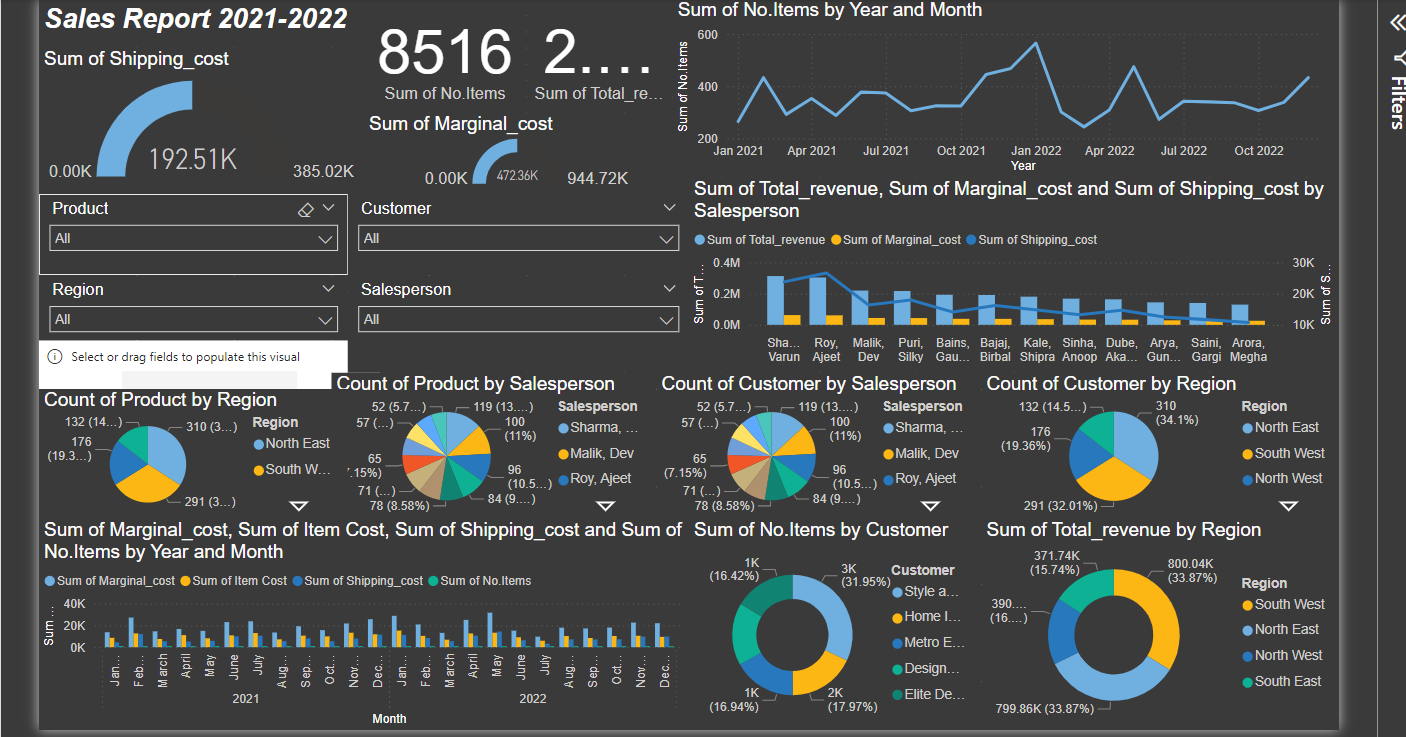

This screenshot's page, from the dashboard's own definition file:
{"tool":"powerbi","page":{"name":"Page 1","canvas":[1280,720],"ordinal":0},"visuals":[{"type":"textbox","box":[0,0,320,48],"z":0},{"type":"clusteredColumnChart","fields":{"Y":["Raw_Data.Marginal_cost","Raw_Data.Item Cost","Raw_Data.Shipping_cost","Raw_Data.No.Items"],"Category":["Raw_Data.Date.Variation.Date Hierarchy.Year","Raw_Data.Date.Variation.Date Hierarchy.Month"]},"box":[0,512,640,208],"z":1000},{"type":"donutChart","fields":{"Category":["Raw_Data.Customer"],"Y":["Raw_Data.No.Items"]},"box":[640,512,288,208],"z":2000},{"type":"donutChart","fields":{"Category":["Raw_Data.Region"],"Y":["Raw_Data.Total_revenue"]},"box":[928,512,352,208],"z":3000},{"type":"pieChart","box":[0,336,336,144],"z":4000},{"type":"pieChart","fields":{"Y":["Raw_Data.Product"],"Category":["Raw_Data.Salesperson"]},"box":[288,368,320,144],"z":5000},{"type":"pieChart","fields":{"Y":["Raw_Data.Product"],"Category":["Raw_Data.Region"]},"box":[0,384,304,128],"z":6000},{"type":"pieChart","fields":{"Y":["Raw_Data.Customer"],"Category":["Raw_Data.Salesperson"]},"box":[608,368,320,144],"z":7000},{"type":"pieChart","fields":{"Y":["Raw_Data.Customer"],"Category":["Raw_Data.Region"]},"box":[928,368,352,144],"z":8000},{"type":"slicer","fields":{"Values":["Raw_Data.Region"]},"box":[0,272,304,64],"z":9000},{"type":"slicer","fields":{"Values":["Raw_Data.Product"]},"box":[0,192,304,80],"z":10000},{"type":"slicer","fields":{"Values":["Raw_Data.Salesperson"]},"box":[304,272,336,96],"z":11000},{"type":"slicer","fields":{"Values":["Raw_Data.Customer"]},"box":[304,192,336,80],"z":12000},{"type":"lineClusteredColumnComboChart","fields":{"Category":["Raw_Data.Salesperson"],"Y":["Raw_Data.Total_revenue","Raw_Data.Marginal_cost"],"Y2":["Raw_Data.Shipping_cost"]},"box":[640,176,640,192],"z":13000},{"type":"gauge","fields":{"Y":["Raw_Data.Shipping_cost"]},"box":[0,48,320,144],"z":14000},{"type":"gauge","fields":{"Y":["Raw_Data.Marginal_cost"]},"box":[320,112,320,80],"z":15000},{"type":"card","fields":{"Values":["Raw_Data.Total_revenue"]},"box":[480,0,144,112],"z":16000},{"type":"card","fields":{"Values":["Raw_Data.No.Items"]},"box":[320,0,160,112],"z":17000},{"type":"lineChart","fields":{"Y":["Raw_Data.No.Items"],"Category":["Raw_Data.Date.Variation.Date Hierarchy.Year","Raw_Data.Date.Variation.Date Hierarchy.Month"]},"box":[624,0,656,176],"z":18000}]}

Visuals, with their boxes in screenshot pixels (x1, y1, x2, y2):
textbox: (92,26,403,72)
clusteredColumnChart - Raw_Data.Marginal_cost x Raw_Data.Item Cost: (92,523,714,726)
donutChart - Raw_Data.Customer x Raw_Data.No.Items: (714,523,994,726)
donutChart - Raw_Data.Region x Raw_Data.Total_revenue: (994,523,1336,726)
pieChart: (92,352,418,492)
pieChart - Raw_Data.Product x Raw_Data.Salesperson: (372,383,683,523)
pieChart - Raw_Data.Product x Raw_Data.Region: (92,399,387,523)
pieChart - Raw_Data.Customer x Raw_Data.Salesperson: (683,383,994,523)
pieChart - Raw_Data.Customer x Raw_Data.Region: (994,383,1336,523)
slicer - Raw_Data.Region: (92,290,387,352)
slicer - Raw_Data.Product: (92,212,387,290)
slicer - Raw_Data.Salesperson: (387,290,714,383)
slicer - Raw_Data.Customer: (387,212,714,290)
lineClusteredColumnComboChart - Raw_Data.Salesperson x Raw_Data.Total_revenue: (714,197,1336,383)
gauge - Raw_Data.Shipping_cost: (92,72,403,212)
gauge - Raw_Data.Marginal_cost: (403,135,714,212)
card - Raw_Data.Total_revenue: (558,26,698,135)
card - Raw_Data.No.Items: (403,26,558,135)
lineChart - Raw_Data.No.Items x Raw_Data.Date.Variation.Date Hierarchy.Year: (698,26,1336,197)
